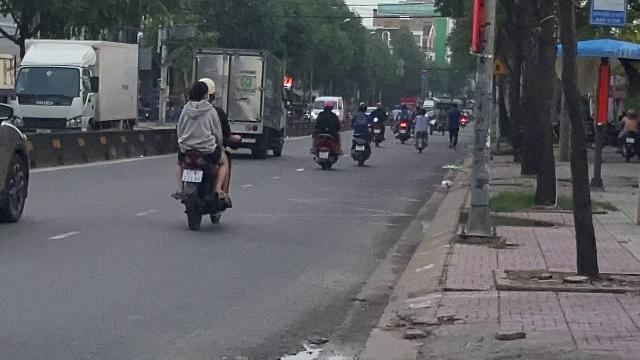helmet: (197, 78, 216, 98)
licenseplate: (182, 169, 202, 181)
motorcyclist: (168, 78, 236, 230)
nohelmet: (188, 80, 208, 102)
